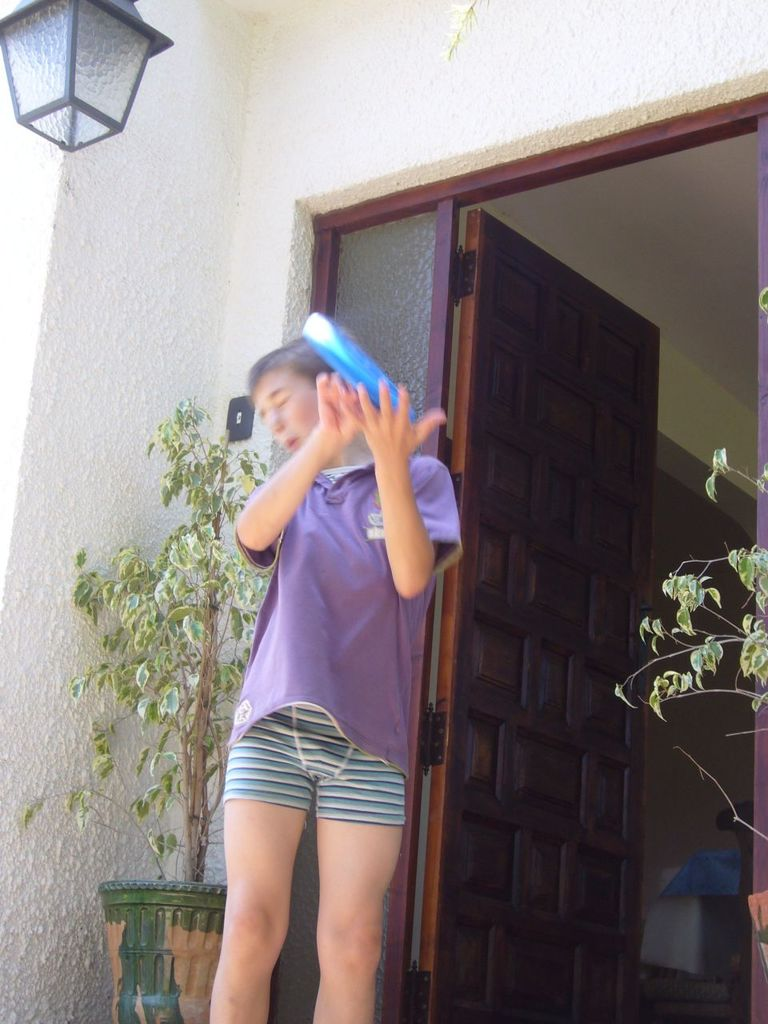door: (472, 215, 628, 1021)
